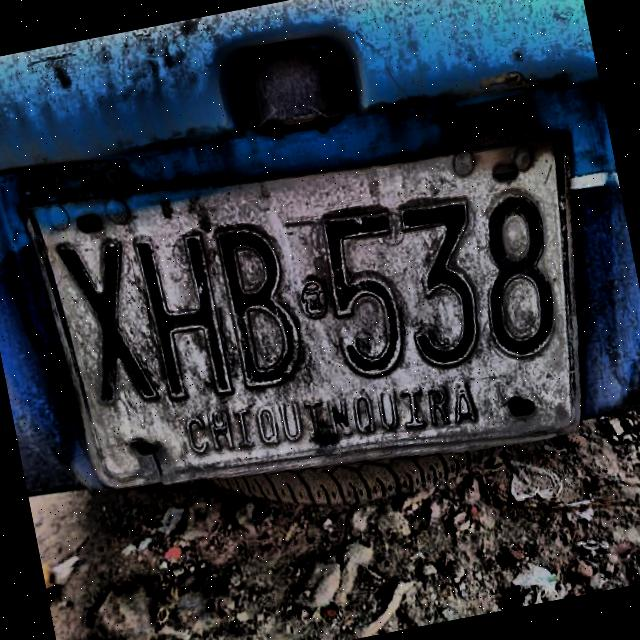plate: (30, 143, 577, 481)
